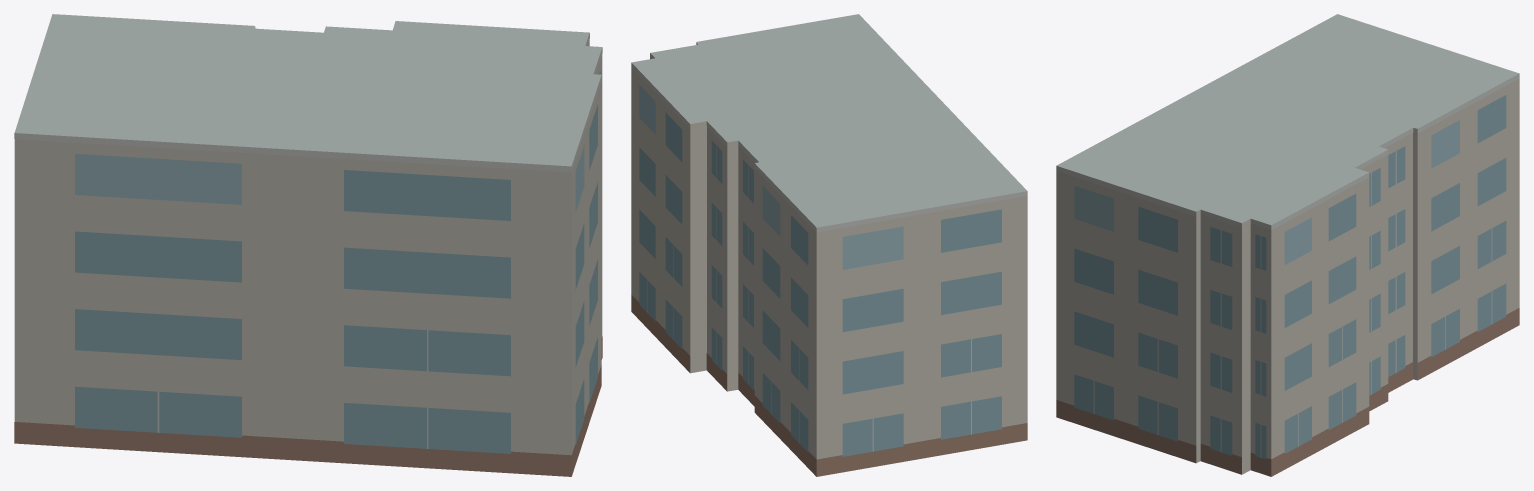
Rendered from survey-upis-32657016.glb.
3 views of the same model, side by side, from view 1: azimuth 30°, elevation 25°; view 2: azimuth 150°, elevation 25°; view 3: azimuth 270°, elevation 25° (orthographic). The views are drawn at different scales.
Visible parts, largest first — view 1: survey-upis-32657016.tmp; view 2: survey-upis-32657016.tmp; view 3: survey-upis-32657016.tmp.
Part boxes in pixels (left/top/right/bottom): survey-upis-32657016.tmp: left=14, top=14, right=602, bottom=476; survey-upis-32657016.tmp: left=631, top=14, right=1027, bottom=476; survey-upis-32657016.tmp: left=1056, top=14, right=1519, bottom=476.
Bounding box in the file's own units: 22.52 × 12.5 × 20.87.
